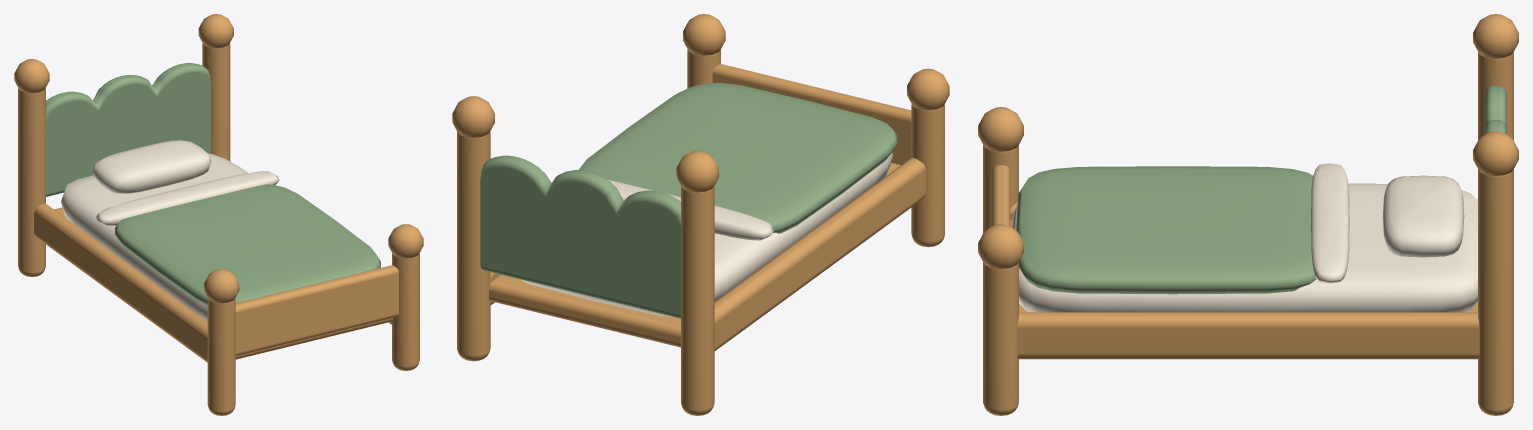
The model's file is 03-bed.glb.
The picture shows the model from 3 angles, left to right: view 1: azimuth 30°, elevation 25°; view 2: azimuth 150°, elevation 25°; view 3: azimuth 270°, elevation 25°; orthographic projection. The views are drawn at different scales.
Parts seen in each view (by area): view 1: 03-bed_mesh; view 2: 03-bed_mesh; view 3: 03-bed_mesh.
Boxes of the visible parts, bbox=[...] form: 03-bed_mesh: bbox=[14, 14, 423, 415]; 03-bed_mesh: bbox=[452, 14, 949, 415]; 03-bed_mesh: bbox=[978, 14, 1518, 415].
Bounding box in the file's own units: 1.07 × 1.02 × 1.79.
